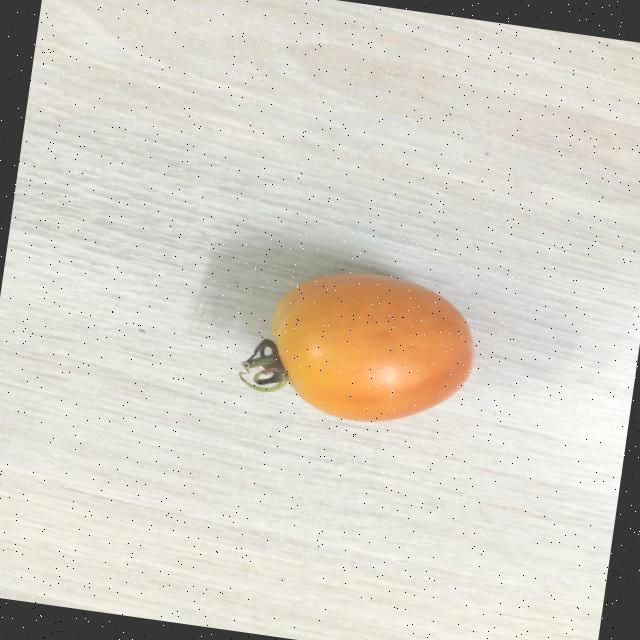Tomato: (236, 256, 489, 438)
